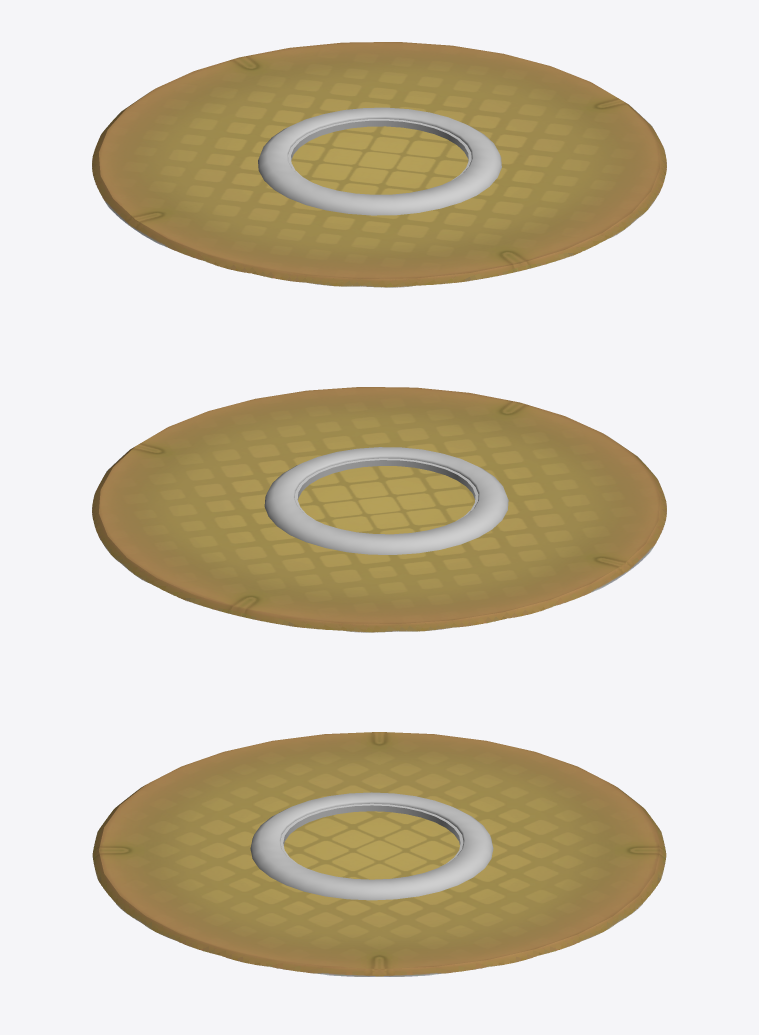
The model's file is pref_TPC_v2_NeutralScoreArea03_yellow_static_lv3.fbx.
3 renders of one model, top to bottom at view 1: azimuth 30°, elevation 25°; view 2: azimuth 150°, elevation 25°; view 3: azimuth 270°, elevation 25°, orthographic.
Visible parts, largest first — view 1: sm_prop_platform06a_lv3, sm_prop_platform06b_lv3; view 2: sm_prop_platform06a_lv3, sm_prop_platform06b_lv3; view 3: sm_prop_platform06a_lv3, sm_prop_platform06b_lv3.
Boxes of the visible parts, <box> form: sm_prop_platform06a_lv3: <box>92,42,666,287</box>; sm_prop_platform06b_lv3: <box>258,107,501,215</box>; sm_prop_platform06a_lv3: <box>92,387,666,632</box>; sm_prop_platform06b_lv3: <box>264,447,508,554</box>; sm_prop_platform06a_lv3: <box>92,732,666,976</box>; sm_prop_platform06b_lv3: <box>250,792,493,900</box>.
Bounding box in the file's own units: 7.46 × 0.2873 × 7.46.
